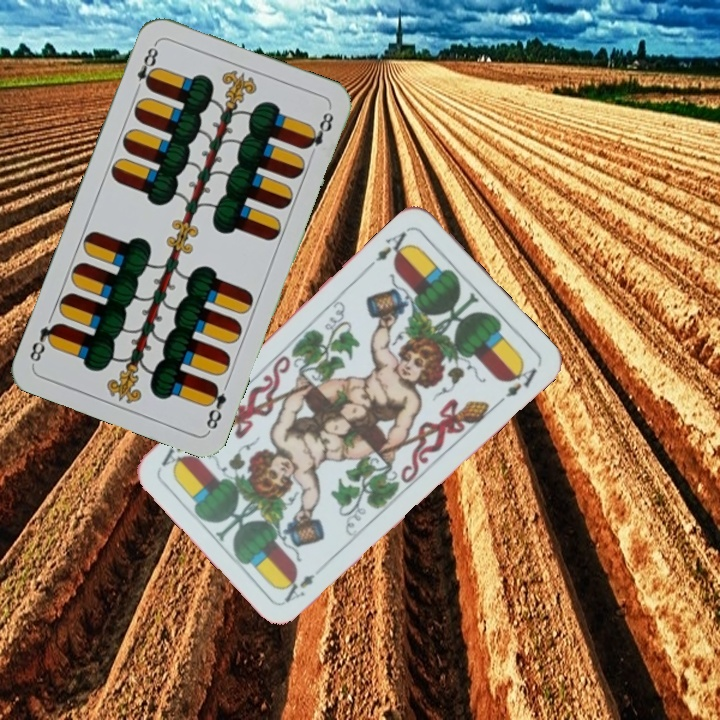E8: (131, 39, 161, 96), (202, 379, 229, 434)
EA: (365, 224, 413, 270), (278, 569, 319, 605)
